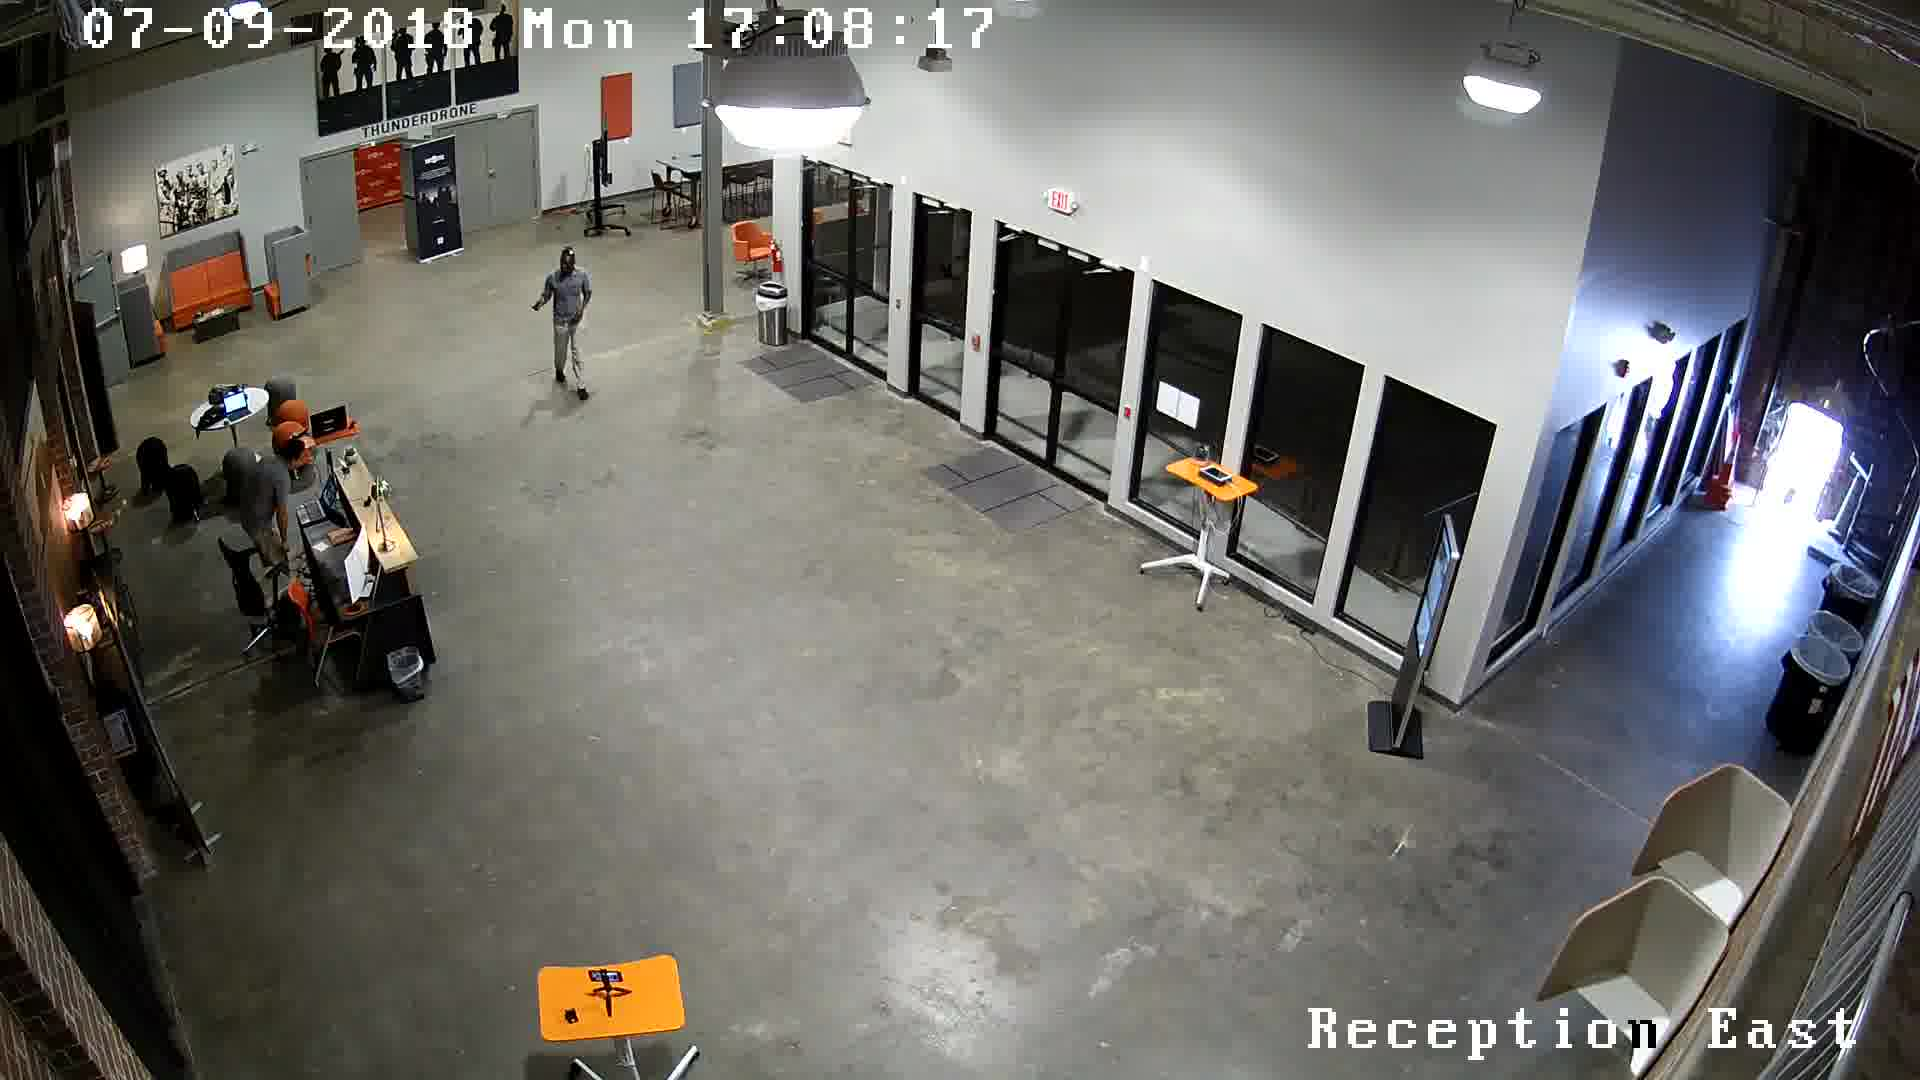pistol: (520, 286, 550, 328)
